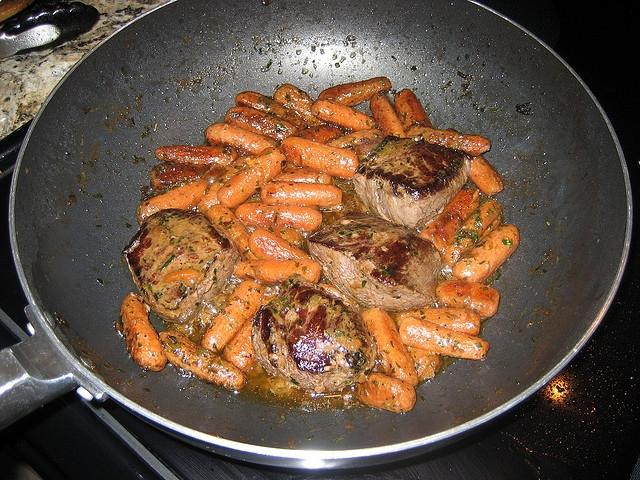carrot: (160, 330, 248, 390), (360, 308, 419, 390), (201, 280, 264, 354), (217, 147, 288, 209), (417, 188, 479, 258), (224, 294, 278, 372), (451, 223, 520, 284), (442, 200, 504, 266), (400, 316, 490, 360), (120, 293, 166, 372), (137, 179, 210, 226), (280, 137, 358, 179), (205, 204, 261, 262), (224, 106, 300, 147), (236, 90, 306, 131), (404, 126, 490, 158), (234, 202, 323, 232), (204, 123, 280, 156), (396, 307, 482, 336), (273, 83, 327, 128), (435, 280, 500, 317), (356, 372, 416, 412), (260, 181, 342, 209), (318, 76, 392, 107), (236, 258, 322, 284), (310, 98, 377, 131), (248, 228, 311, 260), (150, 163, 212, 193), (394, 88, 436, 130), (369, 93, 407, 138), (154, 146, 238, 166), (404, 346, 443, 384), (469, 154, 504, 194), (323, 128, 385, 148), (287, 124, 343, 144), (264, 224, 304, 250), (272, 168, 332, 184), (197, 190, 220, 214)
